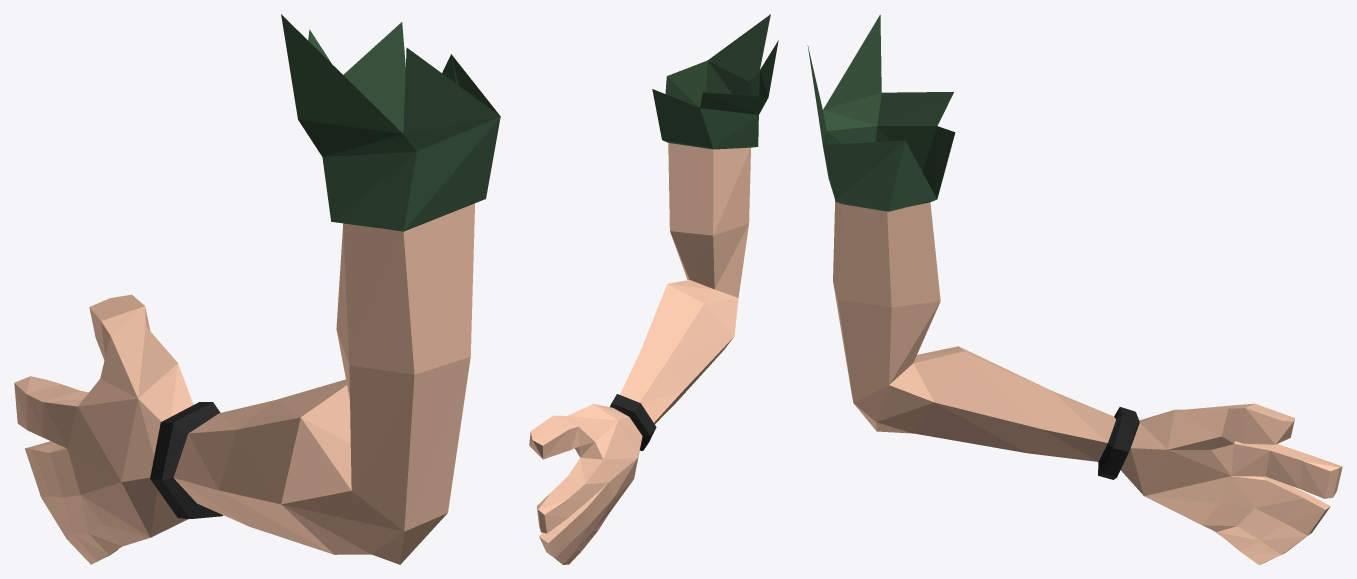
File: ShopKeeper_01_ArmL_70_01_A.obj
3 views of the same model, side by side, from view 1: azimuth 30°, elevation 25°; view 2: azimuth 150°, elevation 25°; view 3: azimuth 270°, elevation 25° (orthographic). The views are drawn at different scales.
Parts seen in each view (by area): view 1: ShopKeeper_01_ArmL_70_01_A; view 2: ShopKeeper_01_ArmL_70_01_A; view 3: ShopKeeper_01_ArmL_70_01_A.
Boxes of the visible parts, x1=… form: ShopKeeper_01_ArmL_70_01_A: x1=14, y1=14, x2=500, y2=564; ShopKeeper_01_ArmL_70_01_A: x1=529, y1=14, x2=778, y2=564; ShopKeeper_01_ArmL_70_01_A: x1=807, y1=15, x2=1342, y2=564.
Bounding box in the file's own units: 0.1602 × 0.6171 × 0.5777.
1 material, 1 textured.
